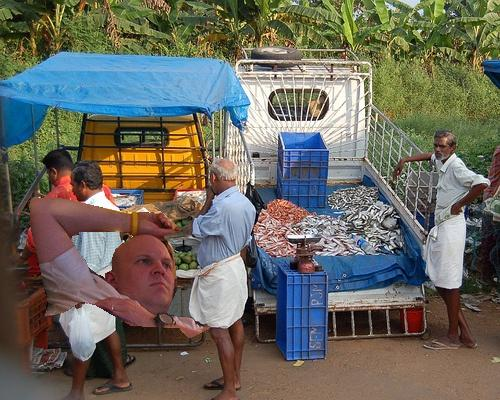tampered: (30, 198, 210, 338)
